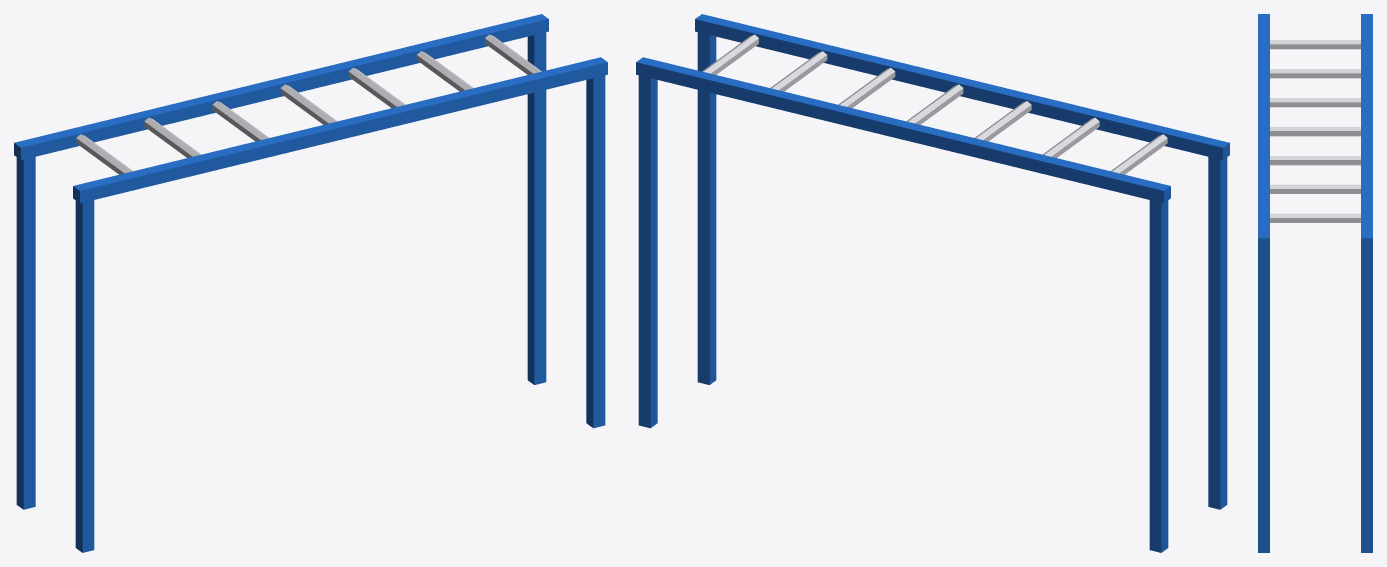
The model's file is monkey_bars.glb.
3 renders of one model, left to right at view 1: azimuth 30°, elevation 25°; view 2: azimuth 150°, elevation 25°; view 3: azimuth 270°, elevation 25°, orthographic. The views are drawn at different scales.
Visible parts, largest first — view 1: monkey_bars; view 2: monkey_bars; view 3: monkey_bars.
Part boxes in pixels (x1,y1,x2,y2): monkey_bars: [14, 14, 607, 552]; monkey_bars: [636, 14, 1229, 552]; monkey_bars: [1258, 14, 1372, 552].
Size of the model in its own units: 3.1 by 2.04 by 0.67.
